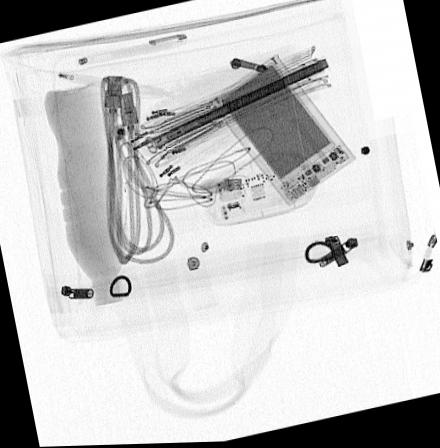Powerbank: (208, 54, 355, 208)
